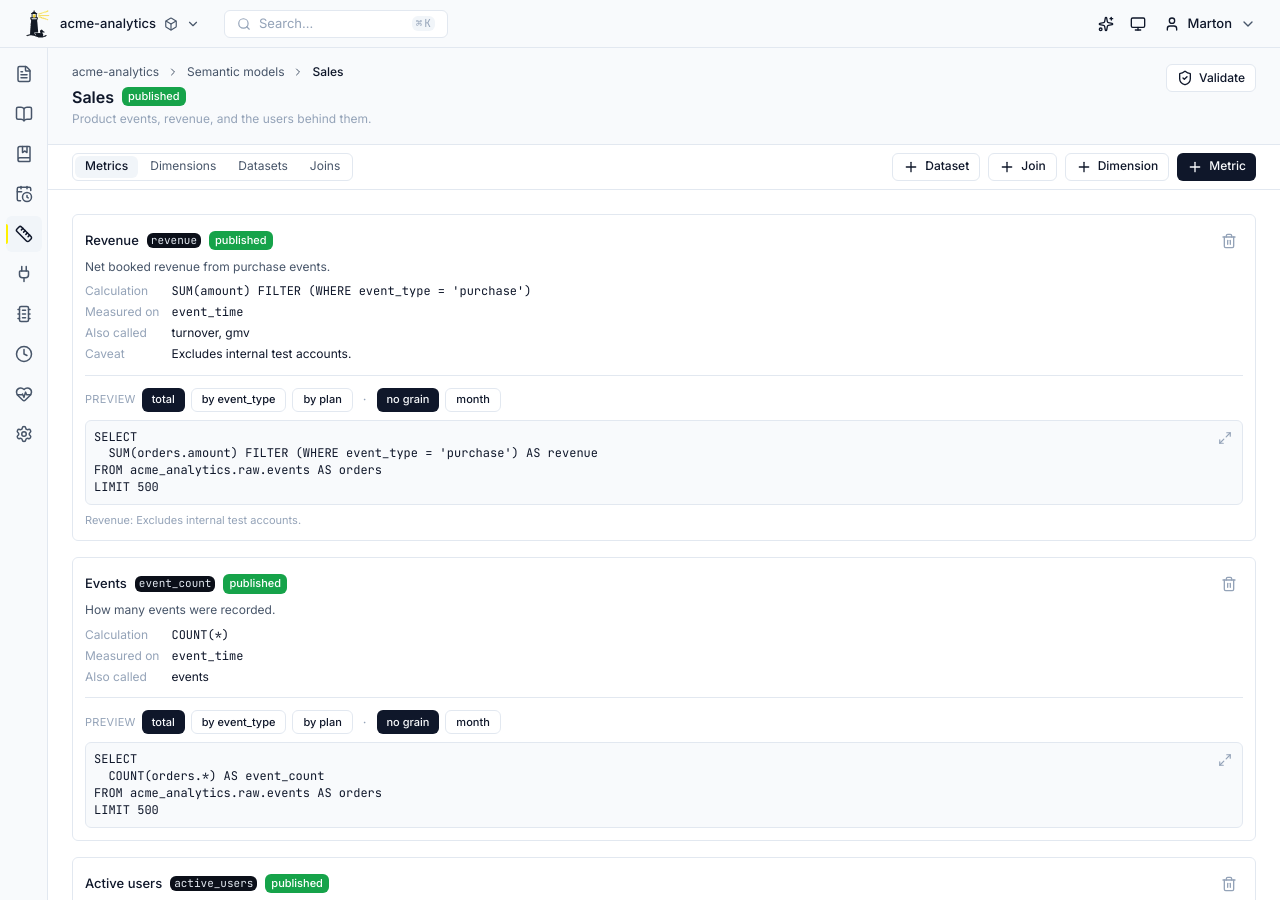
Test: removing a definition › surfaces the server's refusal for a time axis still in use
Click the tab "Dimensions" at (183, 167), box [140,156,226,178]
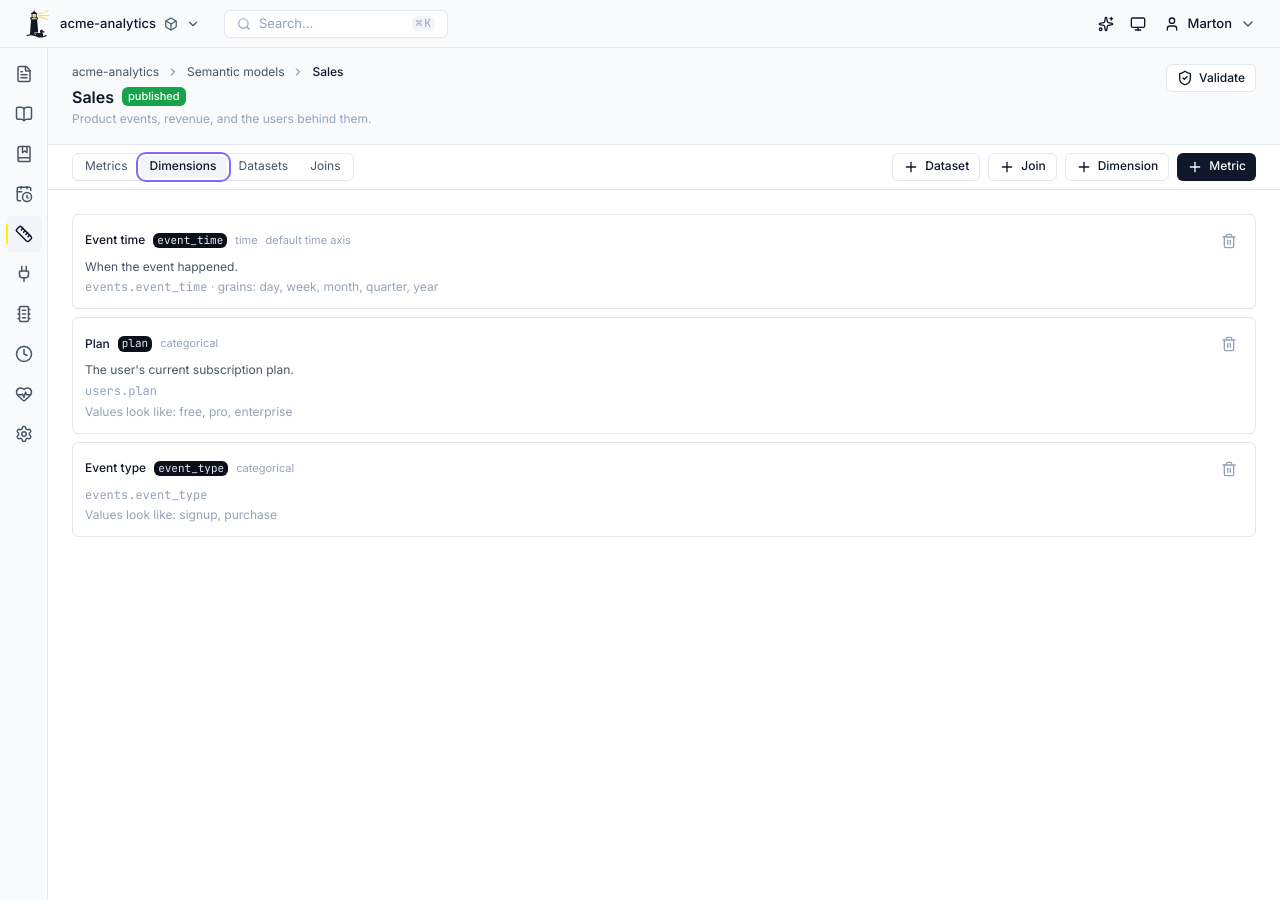
Click the button named "remove dimension event_time" at (1229, 241), box [1215,227,1243,255]
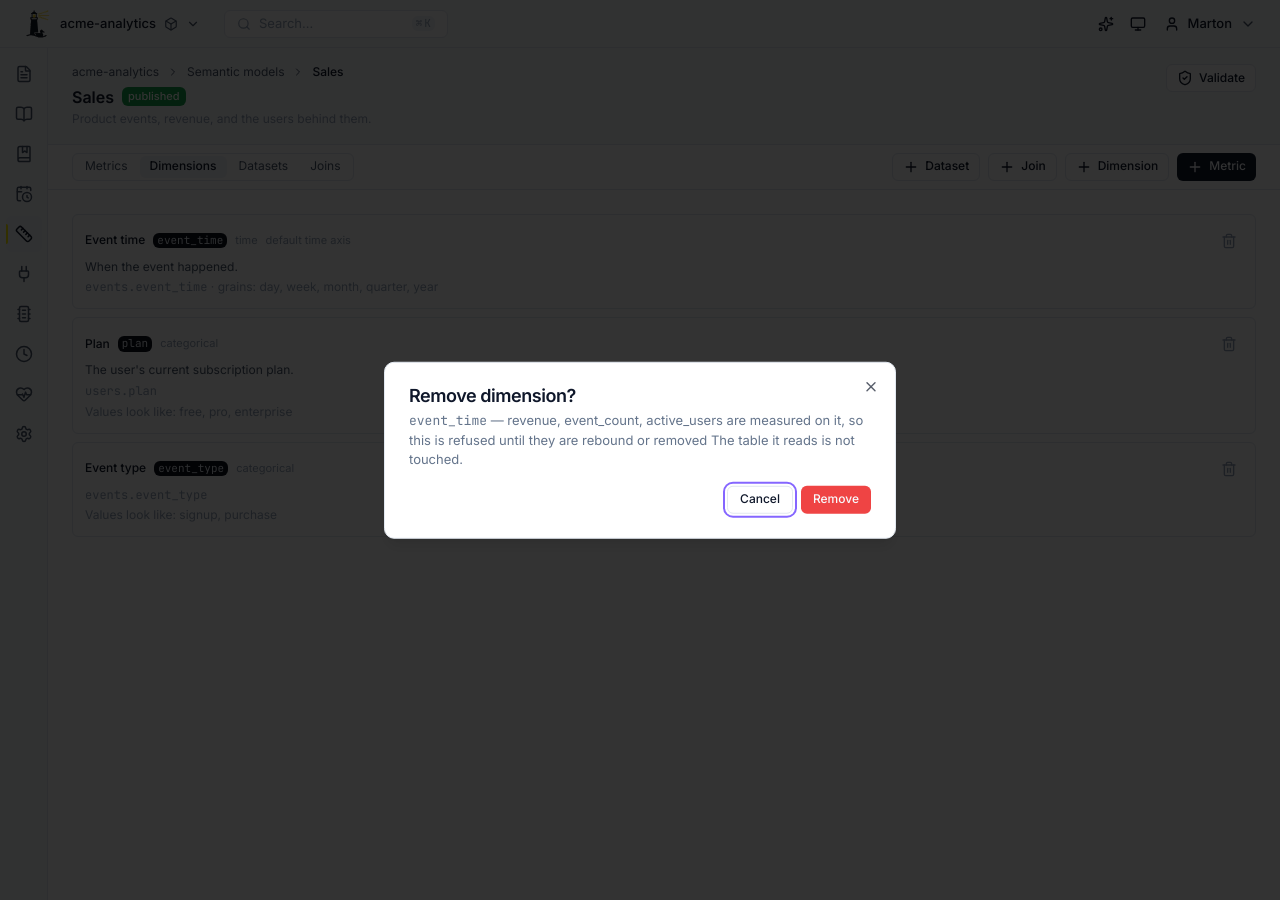
Click the button "Remove" at (836, 499), box [801,485,871,513]
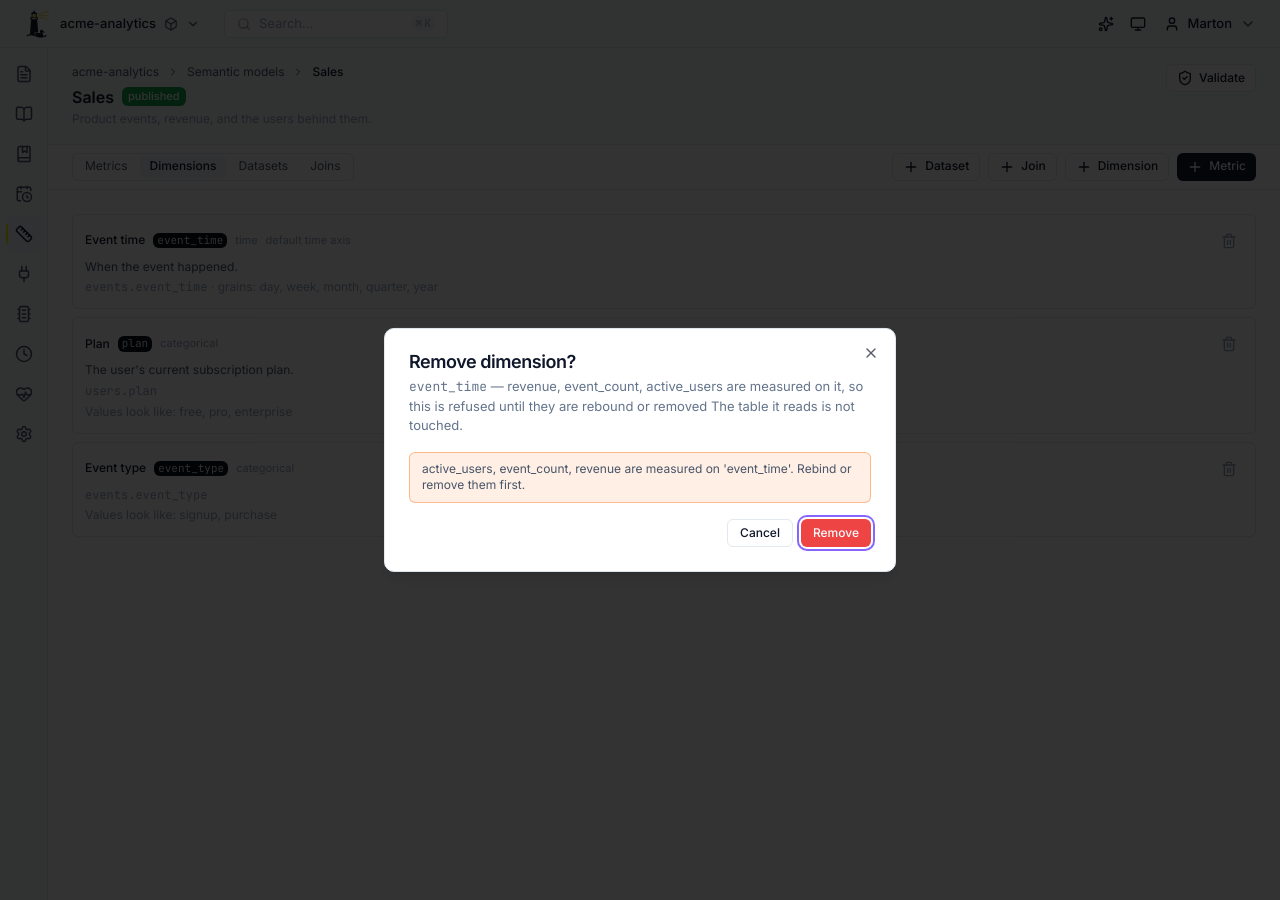
Expected: the text "measured on 'event_time'" is shown, [422,460,851,492]
